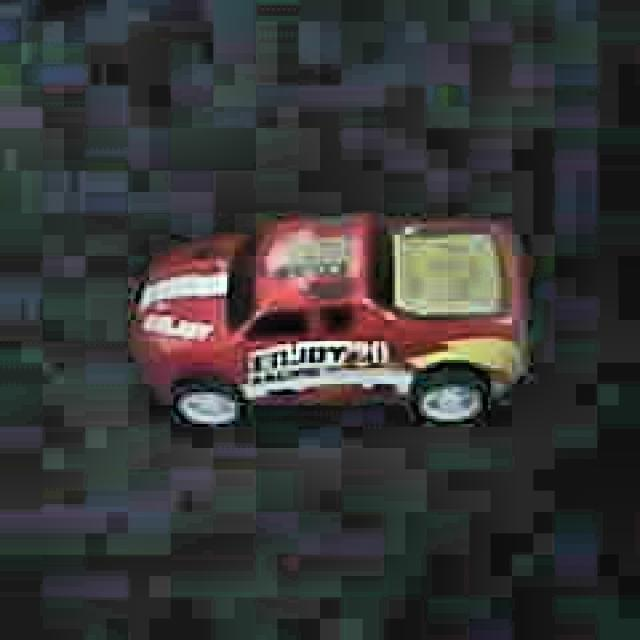car: (123, 207, 524, 432)
